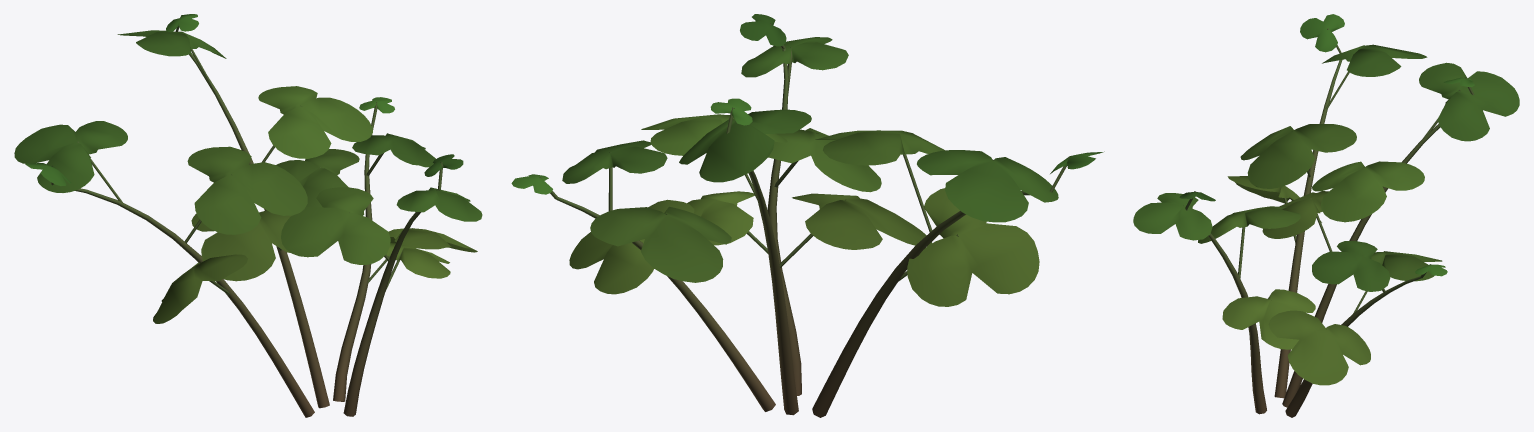
Rendered from sapling.glb.
3 views of the same model, side by side, from view 1: azimuth 30°, elevation 25°; view 2: azimuth 150°, elevation 25°; view 3: azimuth 270°, elevation 25° (orthographic). The views are drawn at different scales.
Parts seen in each view (by area): view 1: sapling; view 2: sapling; view 3: sapling.
Boxes of the visible parts, <box> form: sapling: <box>14,14,482,417</box>; sapling: <box>511,14,1104,417</box>; sapling: <box>1133,14,1519,417</box>.
Size of the model in its own units: 1.09 by 0.7931 by 0.8975.
